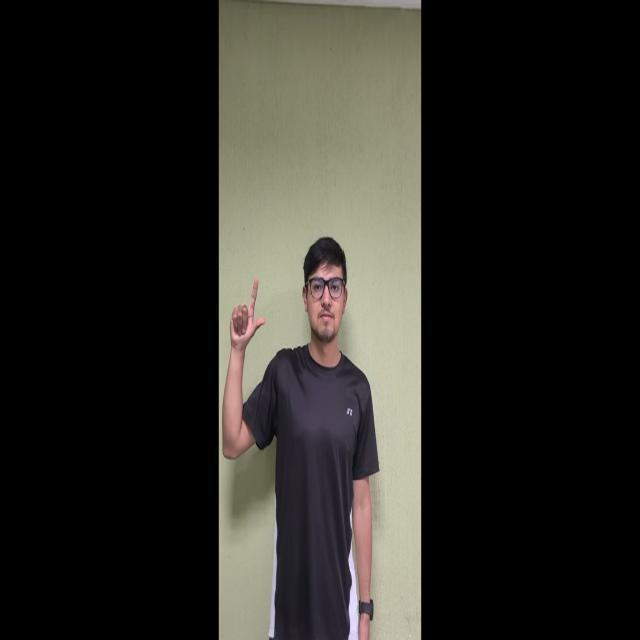L: (224, 260, 274, 358)
